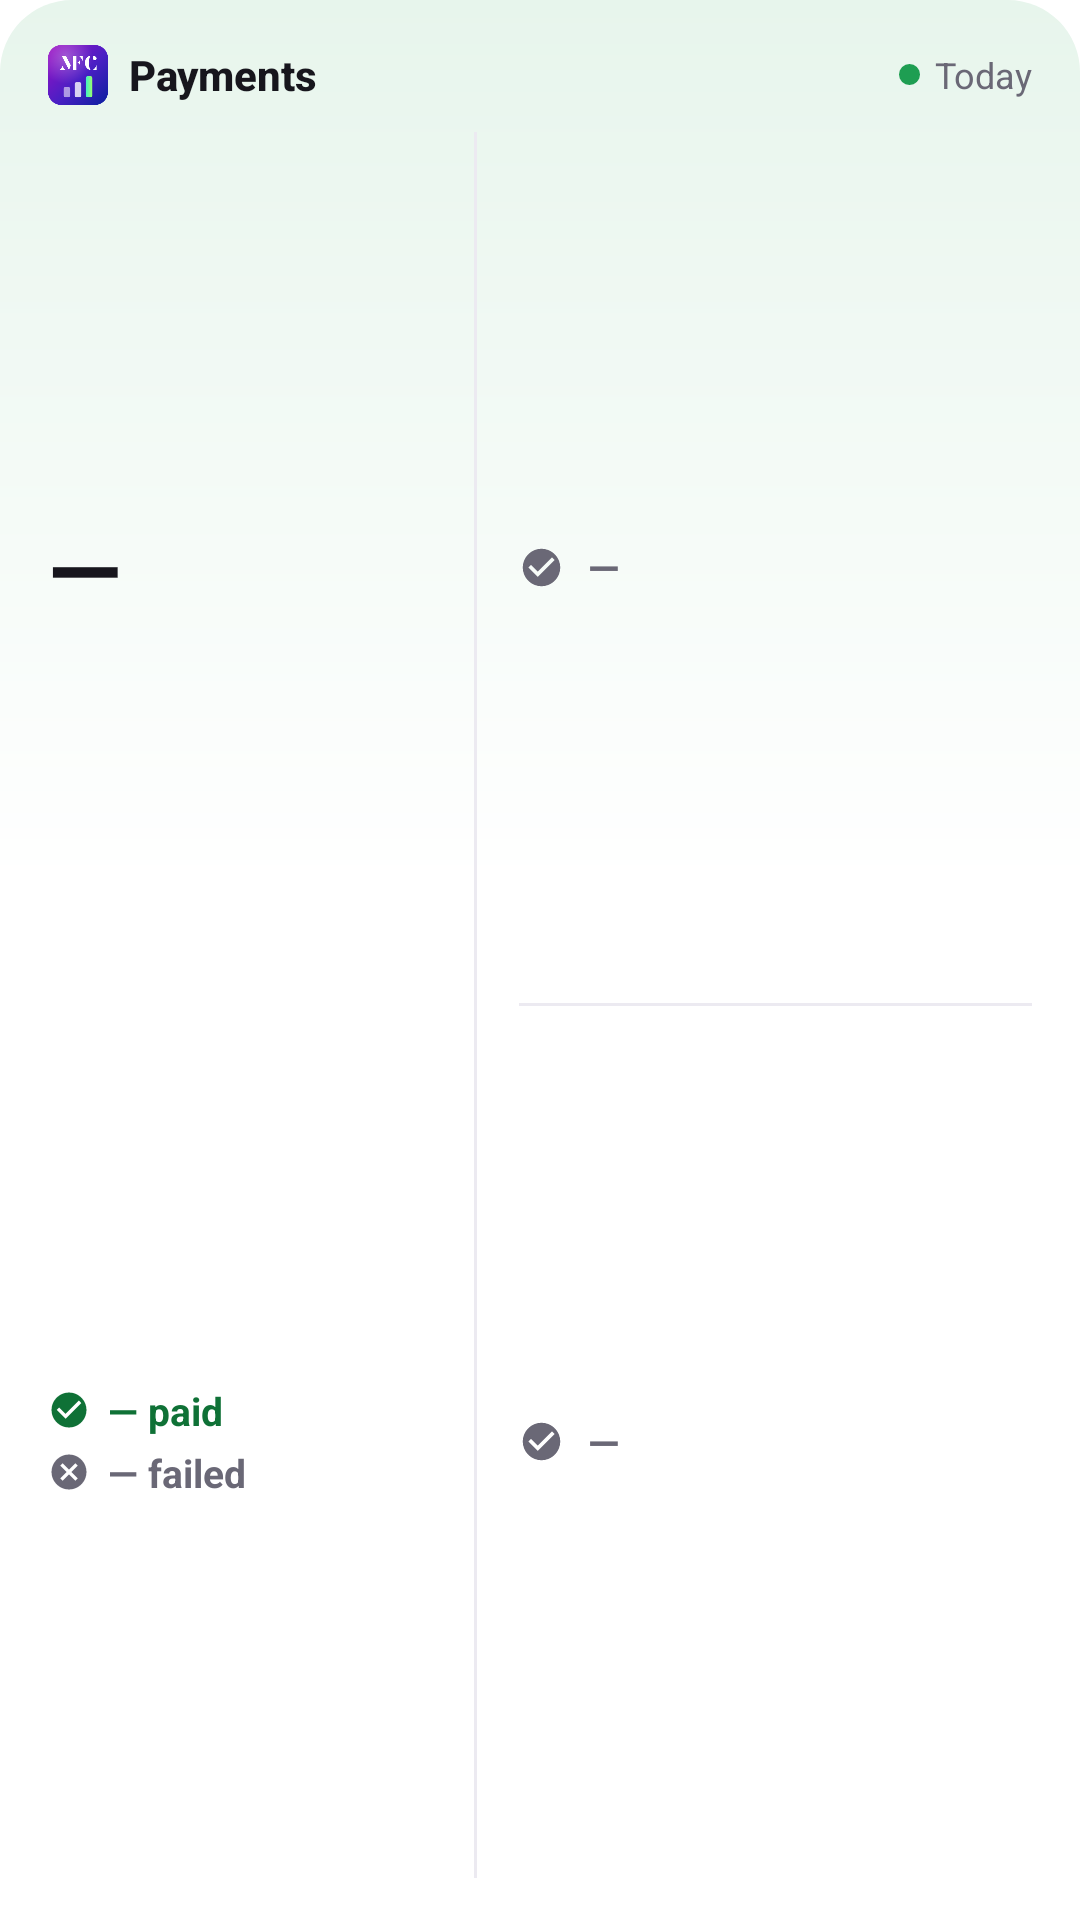

Icon click points for this 1080x1920 phone screenshot, format point (x, y):
widget fail: point (69, 1472)
widget ok: point (541, 567), point (69, 1410), point (541, 1441)
